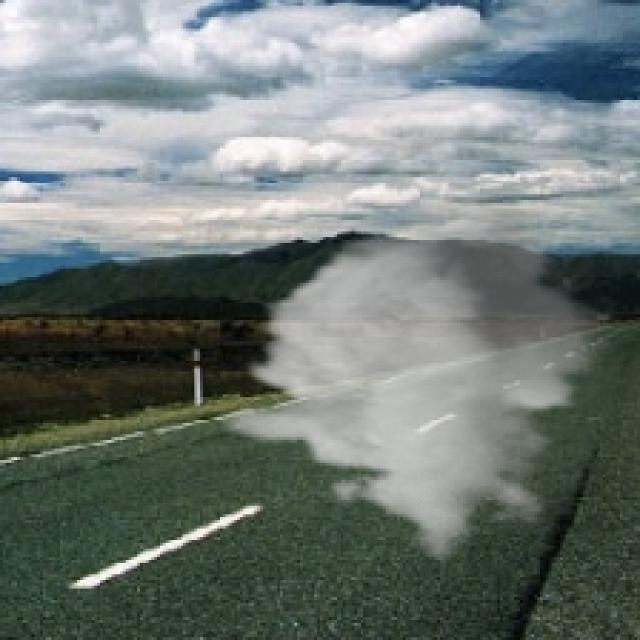Smoke: (217, 194, 620, 563)
